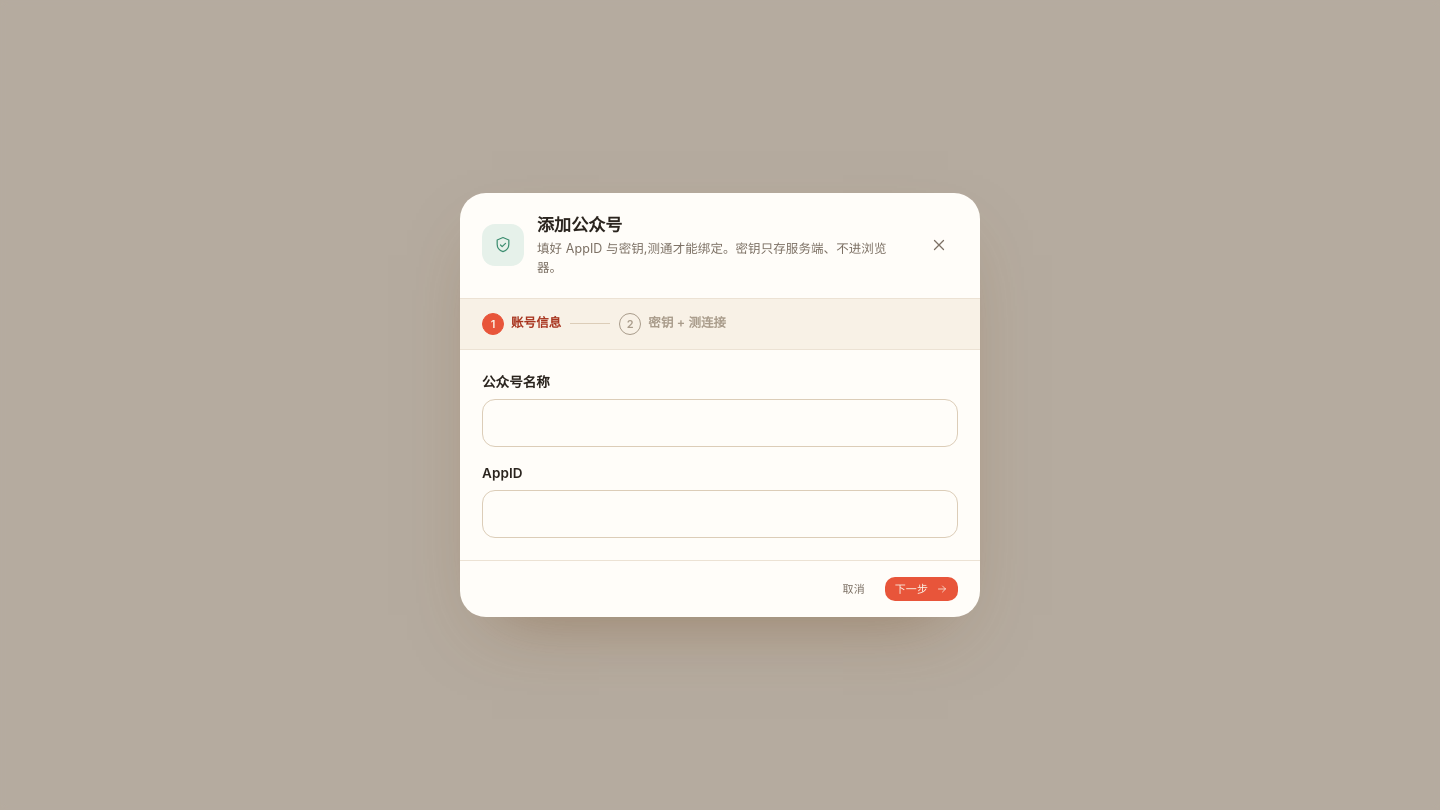
Scenario: WeChatBindWizard › 测试连接失败:后端 message 为空才落「请检查 AppID / AppSecret」兜底
Type "号A" into the field named "名称" at {"x": 720, "y": 423}, box [497, 400, 943, 446]
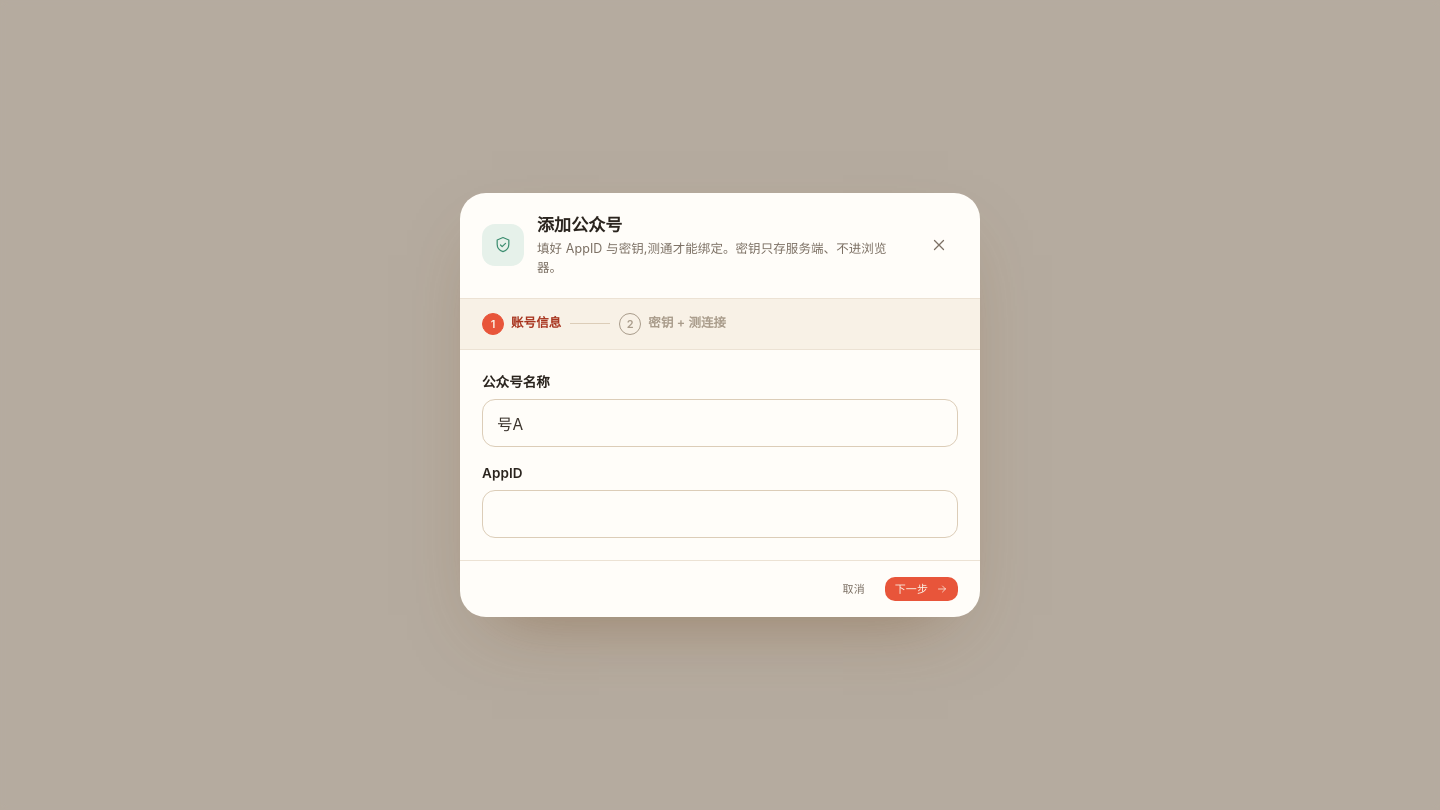
Type "wxAppId" into the field named "AppID" at {"x": 720, "y": 514}, box [497, 491, 943, 537]
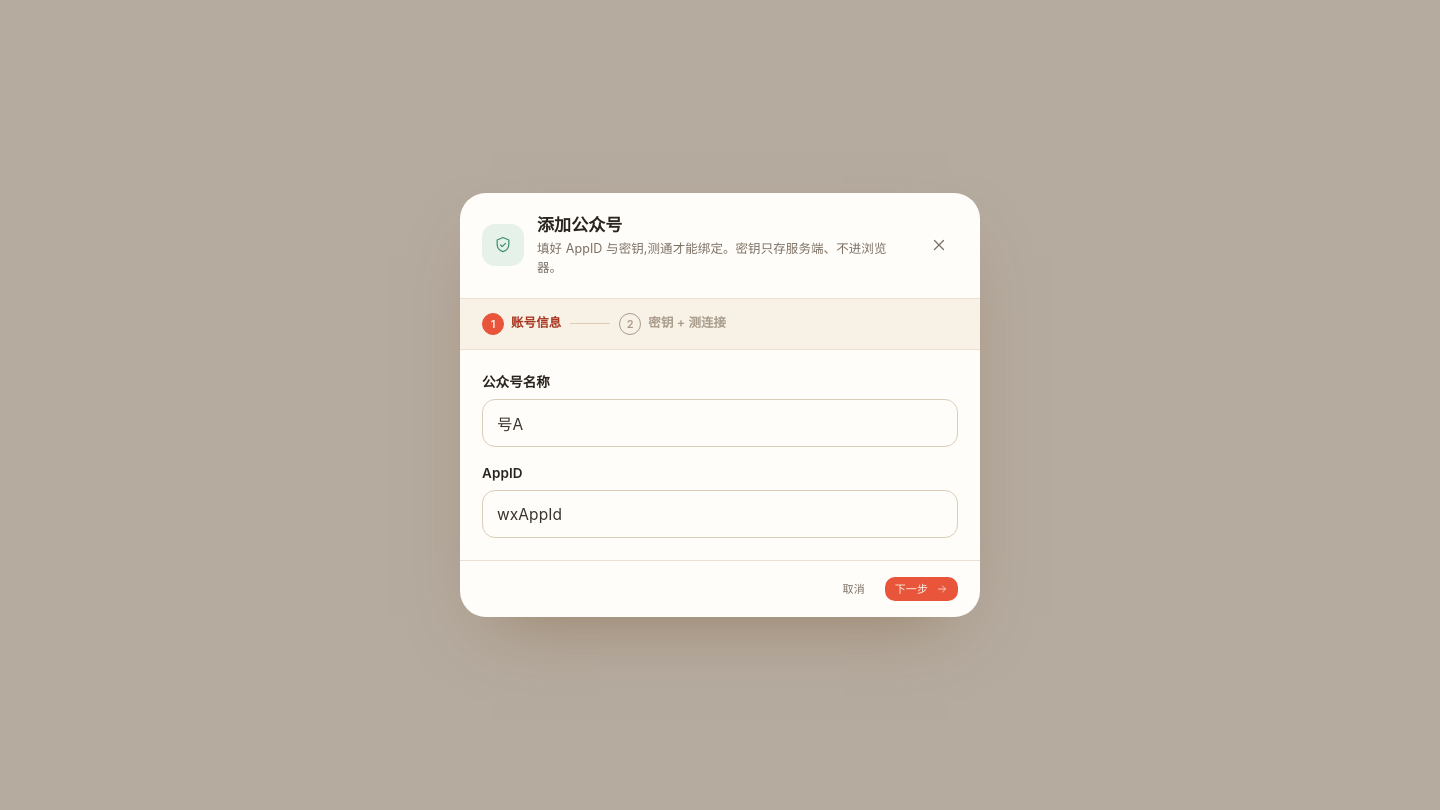
Click the button "下一步" at {"x": 921, "y": 589}, box [885, 577, 958, 601]
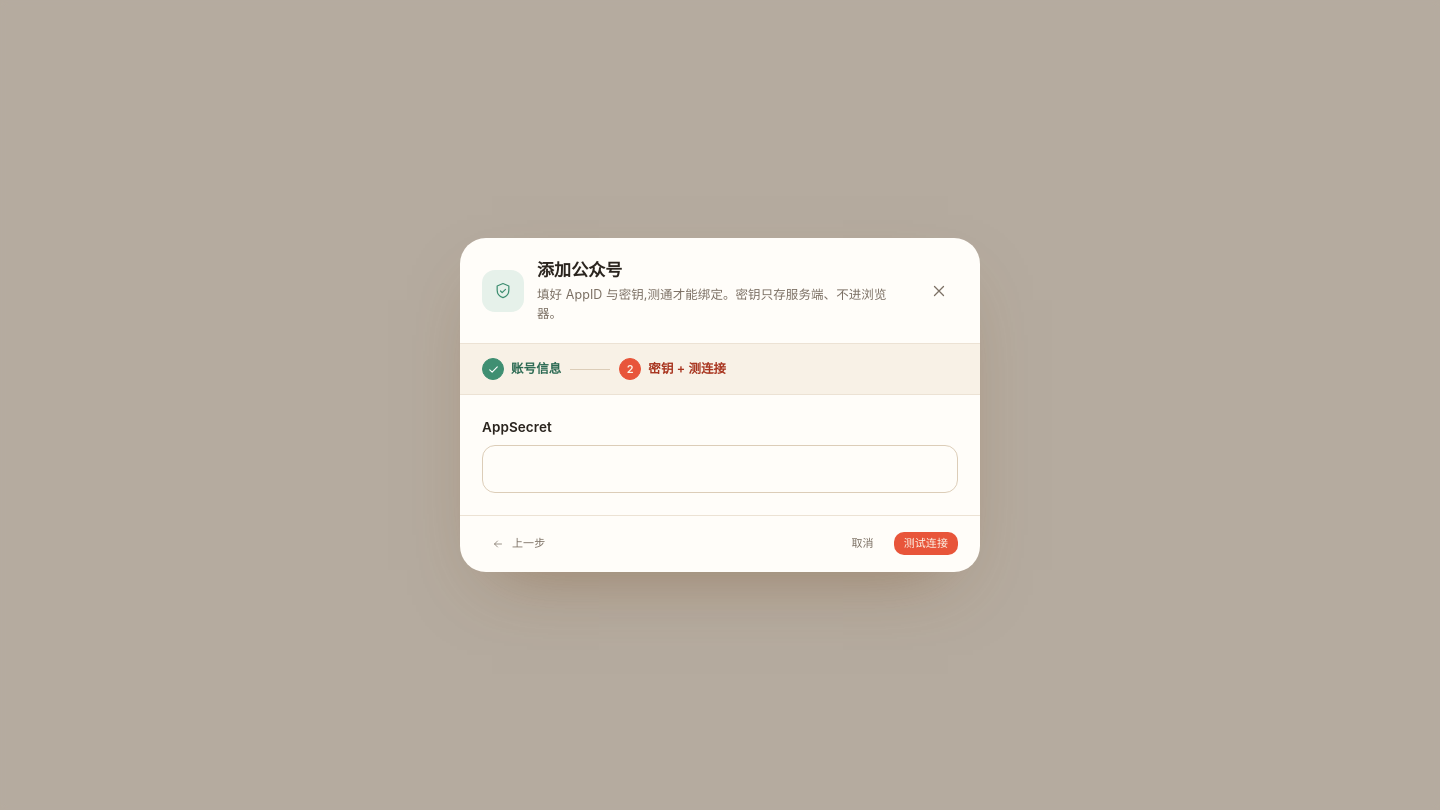
Type "secretX" into the password field named "AppSecret" at {"x": 720, "y": 469}, box [497, 446, 943, 492]
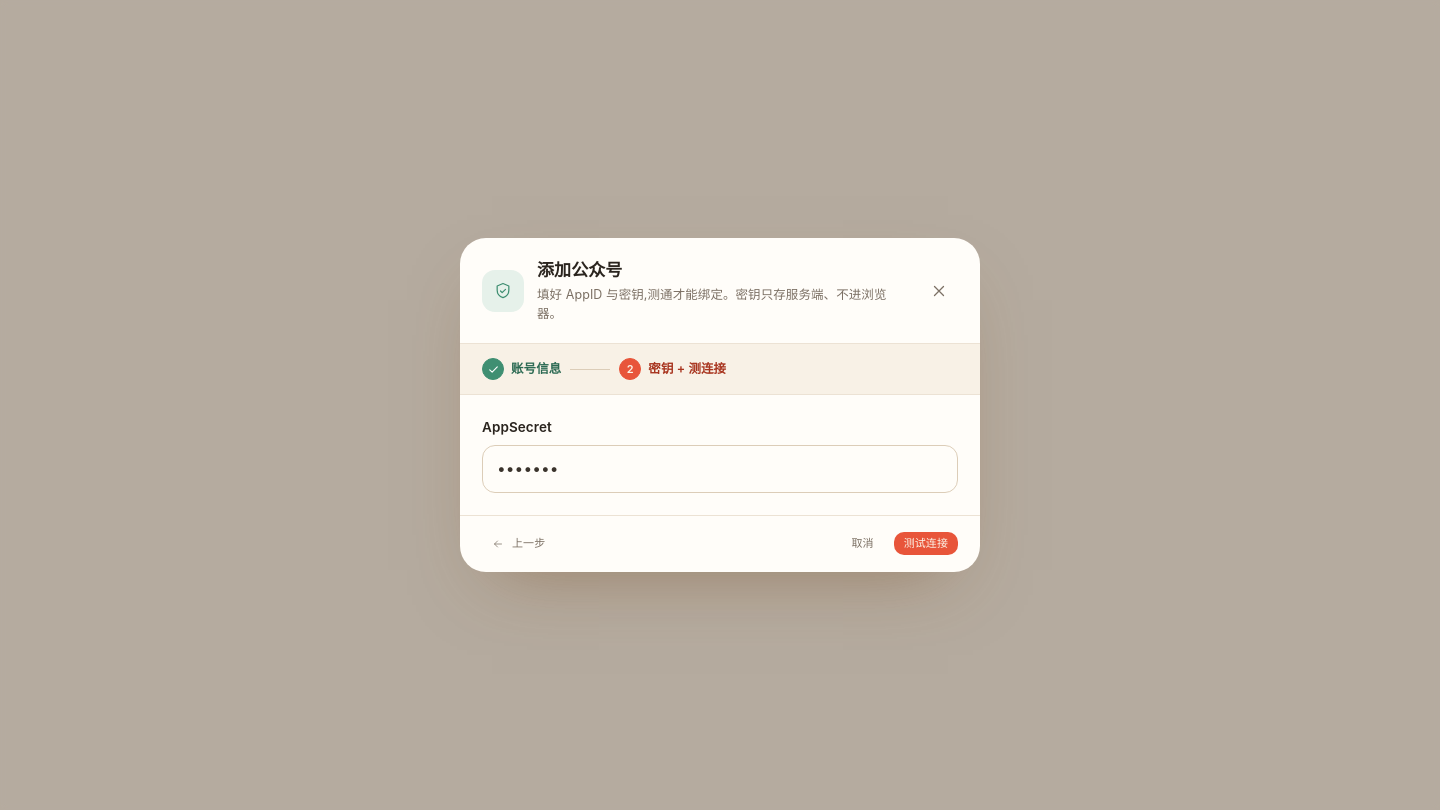
Click the button "测试连接" at {"x": 926, "y": 544}, box [894, 532, 958, 555]
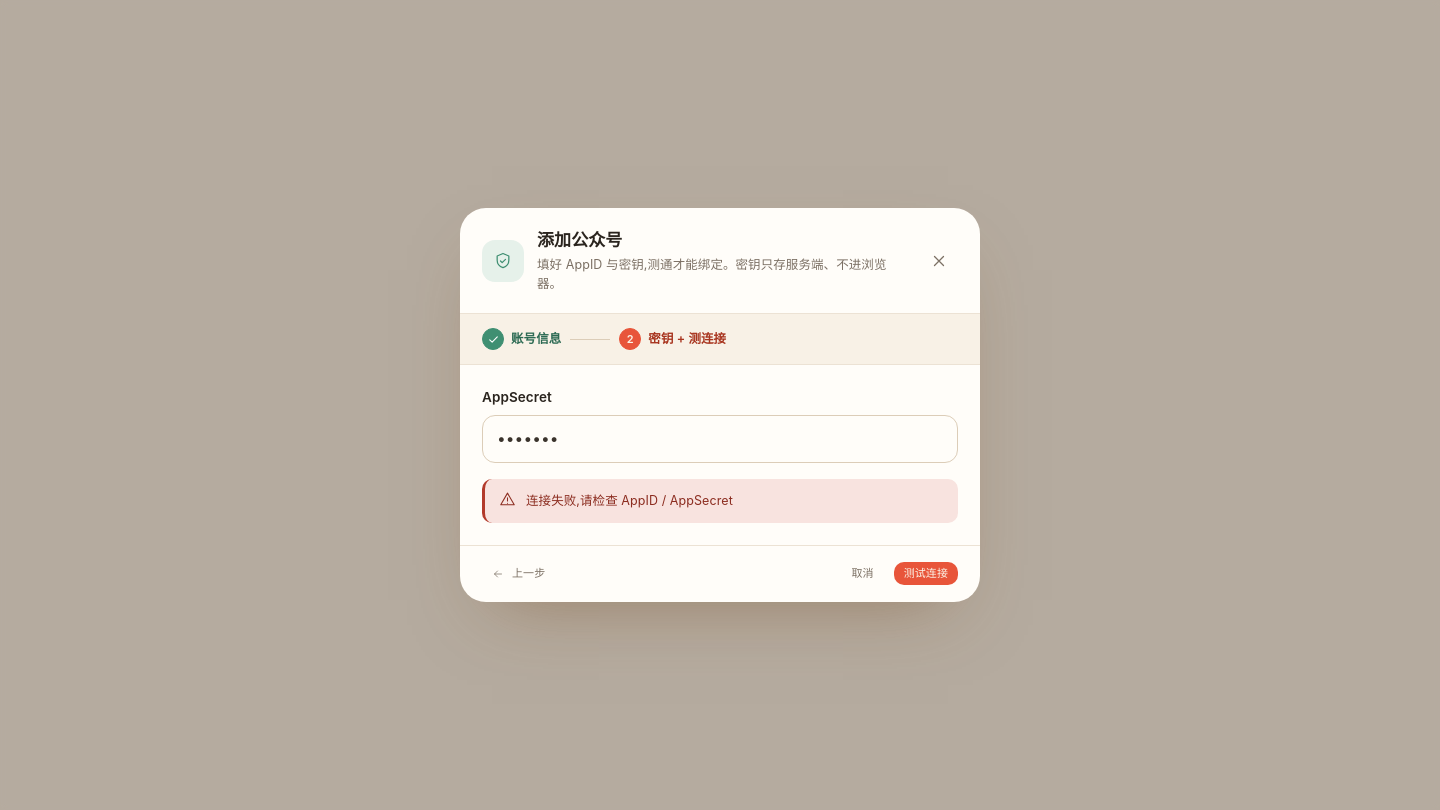
Result: the text "连接失败,请检查 AppID / AppSecret" is shown at [526, 491, 733, 511]
